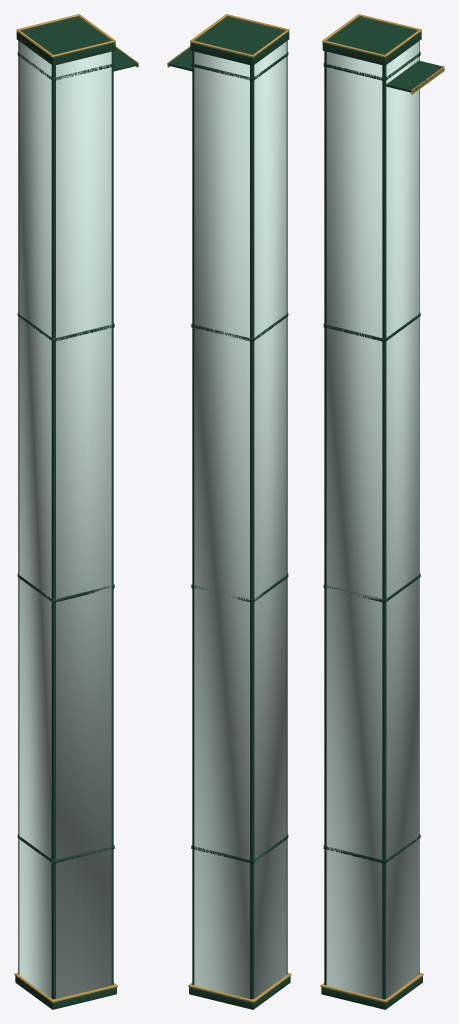
Rendered from lounge_elevator_shaft.glb.
3 renders of one model, left to right at view 1: azimuth 30°, elevation 25°; view 2: azimuth 150°, elevation 25°; view 3: azimuth 330°, elevation 25°, orthographic.
Parts seen in each view (by area): view 1: ShaftGlass, Post3, Cap, Post2, Post0, Plinth, PlinthBrass, Canopy; view 2: ShaftGlass, Post0, Cap, Post1, Post3, Plinth, PlinthBrass, Canopy; view 3: ShaftGlass, Post2, Cap, Post3, Canopy, Post1, Plinth, PlinthBrass.
Part boxes in pixels (box(x1,y1,x2,y2)): ShaftGlass: box(19, 41, 111, 998); Post3: box(51, 65, 55, 999); Cap: box(16, 16, 115, 65); Post2: box(111, 51, 113, 984); Post0: box(18, 41, 19, 974); Plinth: box(15, 976, 116, 1009); PlinthBrass: box(14, 973, 117, 1002); Canopy: box(113, 47, 138, 71); ShaftGlass: box(194, 41, 286, 998); Post0: box(250, 65, 254, 999); Cap: box(190, 16, 289, 65); Post1: box(192, 51, 194, 984); Post3: box(286, 41, 287, 974); Plinth: box(189, 976, 290, 1009); PlinthBrass: box(188, 973, 291, 1002); Canopy: box(168, 47, 192, 71); ShaftGlass: box(326, 41, 418, 998); Post2: box(382, 65, 386, 999); Cap: box(322, 16, 421, 65); Post3: box(324, 51, 326, 985); Canopy: box(386, 60, 444, 92); Post1: box(419, 41, 419, 974); Plinth: box(321, 976, 422, 1009); PlinthBrass: box(320, 973, 423, 1002).
Size of the model in its own units: 1.22 by 12.45 by 0.8994.
